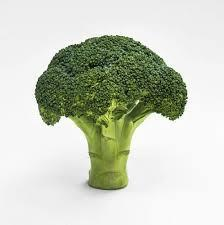broccoli: (34, 33, 188, 190)
